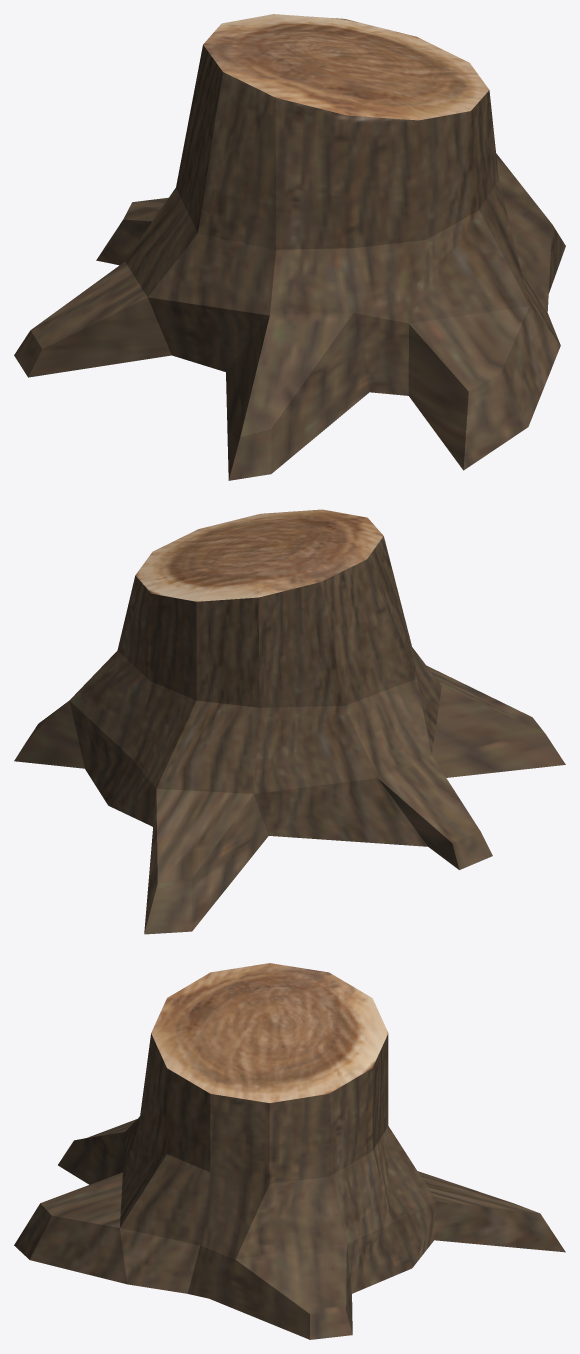
3 renders of one model, top to bottom at view 1: azimuth 30°, elevation 25°; view 2: azimuth 150°, elevation 25°; view 3: azimuth 270°, elevation 25°, orthographic. The views are drawn at different scales.
Parts seen in each view (by area): view 1: tree_cut3; view 2: tree_cut3; view 3: tree_cut3.
Part boxes in pixels (x1,y1,x2,y2): tree_cut3: [14, 14, 565, 480]; tree_cut3: [14, 509, 565, 934]; tree_cut3: [14, 963, 565, 1339].
Bounding box in the file's own units: 104 × 58.99 × 114.
